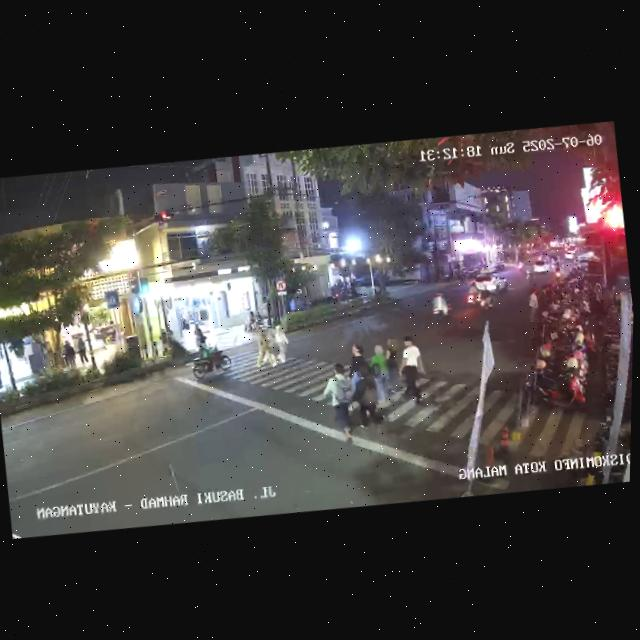car: (470, 269, 510, 295)
motorcycle: (186, 335, 233, 386), (428, 289, 454, 323), (474, 284, 495, 313), (464, 280, 481, 309)
person: (320, 359, 360, 441), (348, 364, 388, 429), (395, 332, 428, 406), (366, 343, 393, 402), (383, 338, 403, 395), (250, 328, 276, 370), (344, 341, 371, 377), (271, 323, 292, 364), (61, 338, 78, 371), (74, 334, 88, 368), (192, 321, 206, 351), (0, 359, 6, 392)
